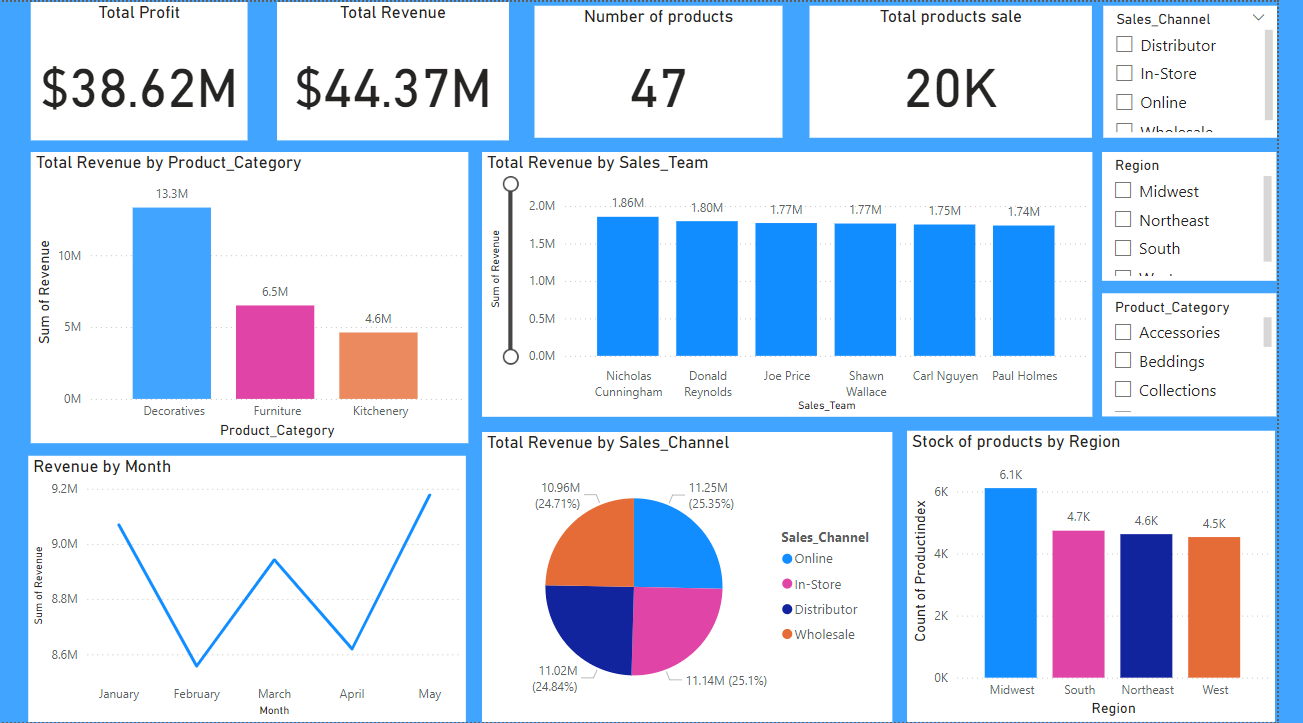

The page's visual inventory and layout, read from the dashboard file:
{"tool":"powerbi","page":{"name":"Page 1","canvas":[1280,720],"ordinal":0},"visuals":[{"type":"card","title":"Total Profit","fields":{"Values":["Sum(sales.Profit)"]},"box":[34.3,0,216.8,138.6],"z":0},{"type":"card","title":"Total Revenue","fields":{"Values":["Sum(sales.Revenue)"]},"box":[279.9,0,231.9,138.6],"z":1000},{"type":"columnChart","title":"Total Revenue by Product_Category","fields":{"Category":["product.Product_Category"],"Y":["Sum(sales.Revenue)"]},"box":[34.3,149.6,437.7,290.9],"z":2000},{"type":"card","title":"Number of products ","fields":{"Values":["CountNonNull(product.Productindex)"]},"box":[537.9,4.1,248.4,131.7],"z":3000},{"type":"pieChart","title":"Total Revenue by Sales_Channel","fields":{"Category":["sales.Sales_Channel"],"Y":["Sum(sales.Revenue)"]},"box":[484.4,429.5,410.3,290.9],"z":4000},{"type":"lineChart","title":"Revenue by Month","fields":{"Category":["sales.Sales_Date.Variation.Date Hierarchy.Month"],"Y":["Sum(sales.Revenue)"]},"box":[31.6,454.2,437.7,266.2],"z":5000},{"type":"card","title":"Total products sale","fields":{"Values":["CountNonNull(sales.Productindex)"]},"box":[812.4,4.1,282.7,131.7],"z":6000},{"type":"slicer","fields":{"Values":["sales.Sales_Channel"]},"box":[1106,4.1,174.3,131.7],"z":7000},{"type":"slicer","fields":{"Values":["salesperson.Region"]},"box":[1104.6,149.6,174.3,129],"z":8000},{"type":"columnChart","title":"Total Revenue by Sales_Team","fields":{"Category":["salesperson.Sales_Team"],"Y":["Sum(sales.Revenue)"]},"box":[484.4,149.6,610.6,264.8],"z":9000},{"type":"slicer","fields":{"Values":["product.Product_Category"]},"box":[1104.6,290.9,174.3,123.5],"z":10000},{"type":"columnChart","title":"Stock of products sold by Region","fields":{"Category":["salesperson.Region"],"Y":["CountNonNull(sales.Productindex)"]},"box":[909.8,429.1,367.8,290.9],"z":11000}]}

Visuals, with their boxes in screenshot pixels (x1, y1, x2, y2), scaled from the page's 1280x720 canvas onto the 1303x723 screenshot:
"Total Profit" card: (35, 0, 256, 139)
"Total Revenue" card: (285, 0, 521, 139)
"Total Revenue by Product_Category" columnChart: (35, 150, 480, 442)
"Number of products " card: (548, 4, 800, 136)
"Total Revenue by Sales_Channel" pieChart: (493, 431, 911, 722)
"Revenue by Month" lineChart: (32, 456, 478, 722)
"Total products sale" card: (827, 4, 1115, 136)
slicer - sales.Sales_Channel: (1126, 4, 1302, 136)
slicer - salesperson.Region: (1124, 150, 1302, 280)
"Total Revenue by Sales_Team" columnChart: (493, 150, 1115, 416)
slicer - product.Product_Category: (1124, 292, 1302, 416)
"Stock of products sold by Region" columnChart: (926, 431, 1301, 722)
